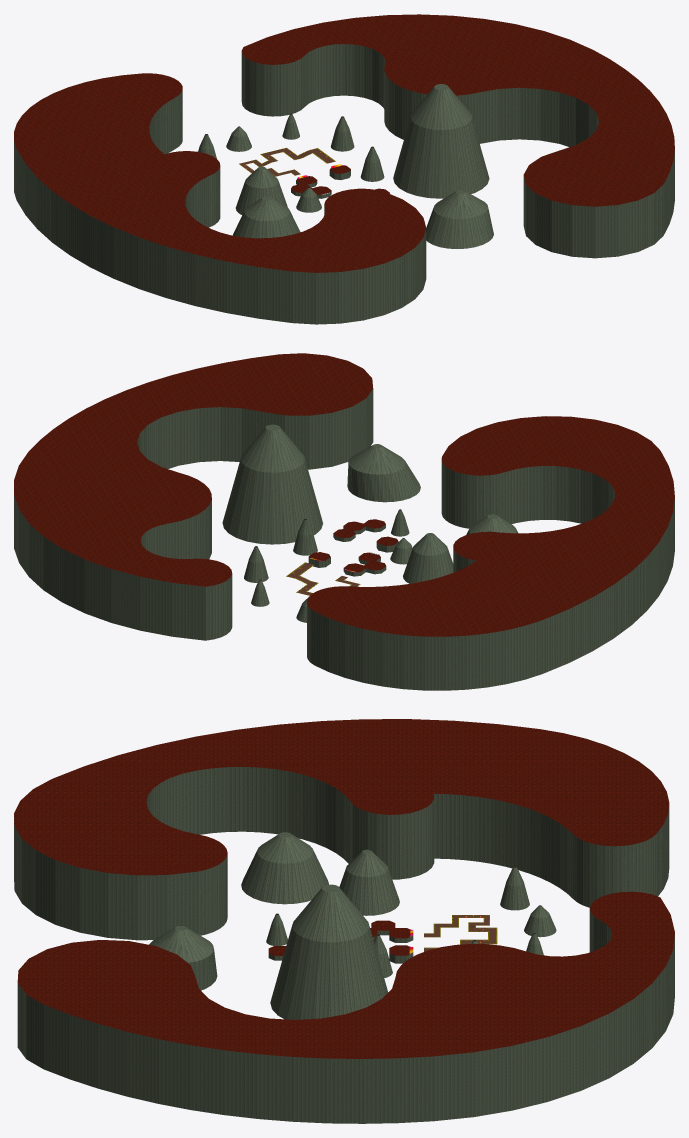
The picture shows the model from 3 angles, top to bottom: view 1: azimuth 30°, elevation 25°; view 2: azimuth 150°, elevation 25°; view 3: azimuth 270°, elevation 25°; orthographic projection. The views are drawn at different scales.
Parts seen in each view (by area): view 1: Ember_Coast_SKP__Road, Ember_Coast_SKP__Rock, Ember_Coast_SKP__Grate; view 2: Ember_Coast_SKP__Road, Ember_Coast_SKP__Rock, Ember_Coast_SKP__Grate; view 3: Ember_Coast_SKP__Rock, Ember_Coast_SKP__Road, Ember_Coast_SKP__Grate.
Boxes of the visible parts, <box> form: Ember_Coast_SKP__Road: <box>14,14,674,272</box>; Ember_Coast_SKP__Rock: <box>14,44,674,324</box>; Ember_Coast_SKP__Grate: <box>239,147,335,176</box>; Ember_Coast_SKP__Road: <box>14,353,674,636</box>; Ember_Coast_SKP__Rock: <box>14,389,674,690</box>; Ember_Coast_SKP__Grate: <box>286,562,360,595</box>; Ember_Coast_SKP__Rock: <box>14,767,674,1123</box>; Ember_Coast_SKP__Road: <box>14,719,674,1058</box>; Ember_Coast_SKP__Grate: <box>424,915,497,951</box>.
Size of what is drawn, in the model's own units: 335690 by 52868 by 275850.
5 materials, 5 textured.
